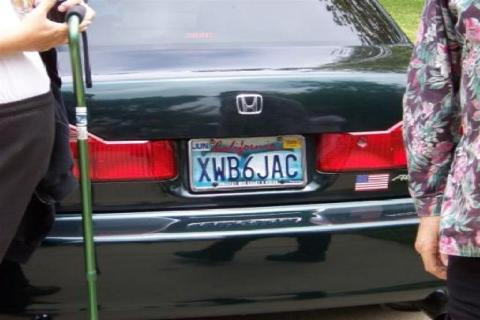LicensePlate: (188, 138, 308, 188)
